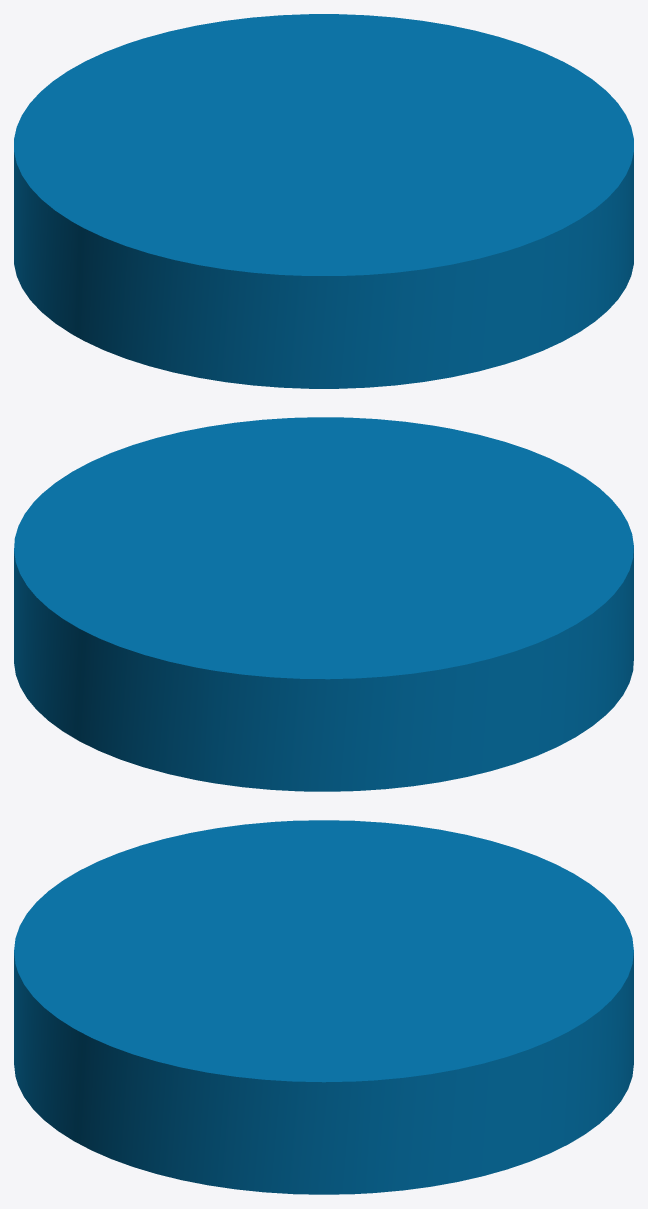
File: ficha_azul.glb
3 views of the same model, one above another, from view 1: azimuth 30°, elevation 25°; view 2: azimuth 150°, elevation 25°; view 3: azimuth 270°, elevation 25° (orthographic).
Parts seen in each view (by area): view 1: ficha_azul; view 2: ficha_azul; view 3: ficha_azul.
Boxes of the visible parts, bbox=[...] form: ficha_azul: bbox=[14, 14, 633, 388]; ficha_azul: bbox=[14, 417, 633, 791]; ficha_azul: bbox=[14, 820, 633, 1194].
Size of the model in its own units: 0.0176 by 0.00353 by 0.0176.
